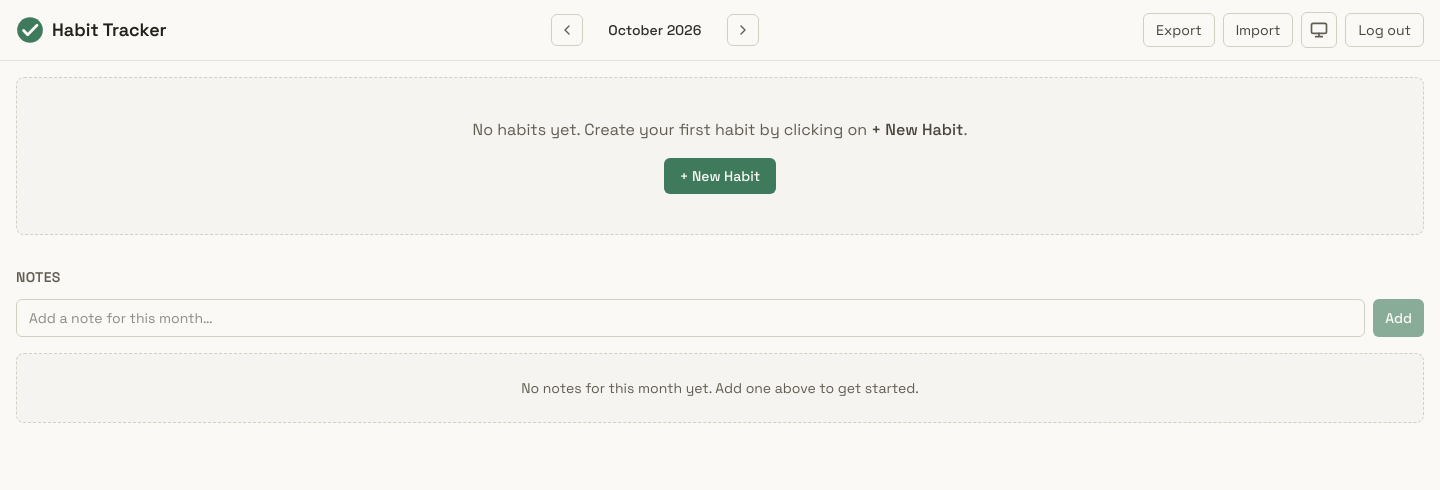
Scenario: App › keeps the note draft and shows the error when adding a note fails
The image size is (1440, 490).
Type "Remember this" into the field with placeholder "Add a note for this month…" at x=691, y=318, box [16,299,1365,337]
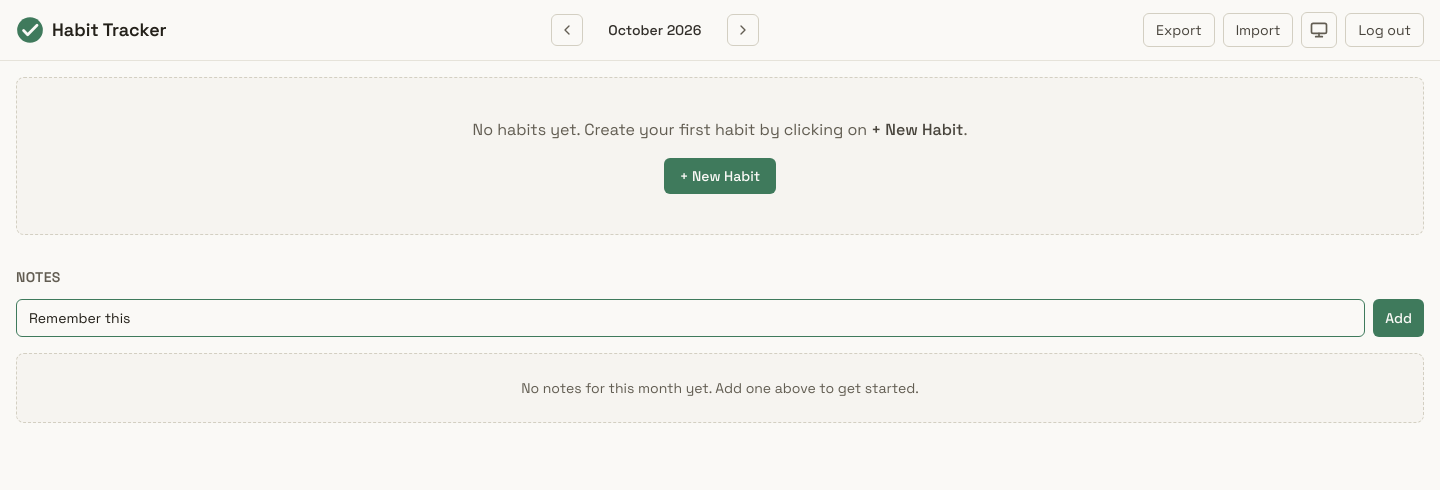
Click the button "Add" at x=1399, y=318, box [1373,299,1424,337]
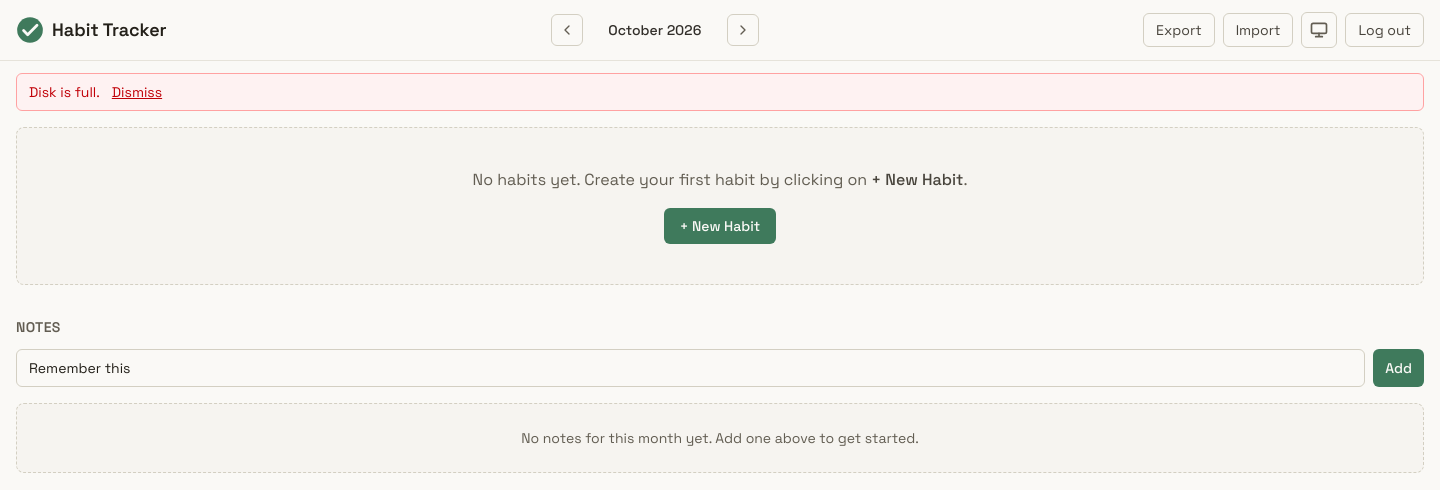
Expected: the text "Disk is full." is shown, [29,83,100,101]
